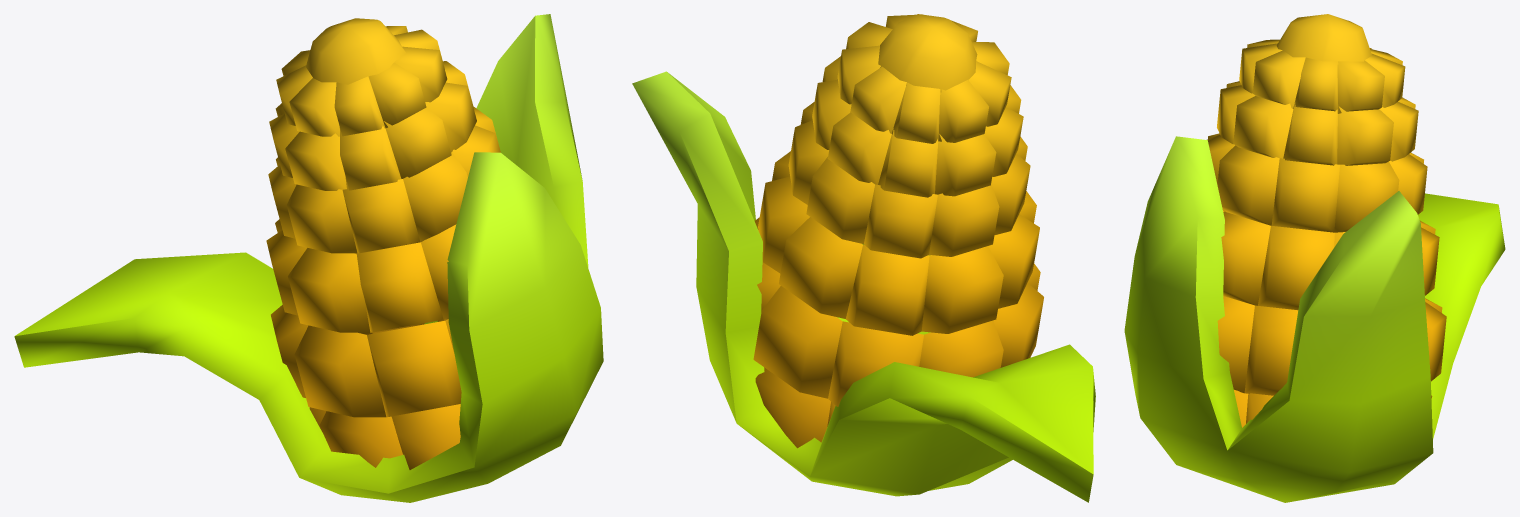
The model's file is Farm_Crop_Corn_01.fbx.
The picture shows the model from 3 angles, left to right: view 1: azimuth 30°, elevation 25°; view 2: azimuth 150°, elevation 25°; view 3: azimuth 270°, elevation 25°; orthographic projection. The views are drawn at different scales.
Visible parts, largest first — view 1: Farm_Crop_Corn_01; view 2: Farm_Crop_Corn_01; view 3: Farm_Crop_Corn_01.
Boxes of the visible parts, x1,y1,x2,y2 form: Farm_Crop_Corn_01: [14, 14, 603, 502]; Farm_Crop_Corn_01: [632, 14, 1095, 502]; Farm_Crop_Corn_01: [1124, 14, 1505, 502].
Size of the model in its own units: 105 by 91.85 by 71.69.
